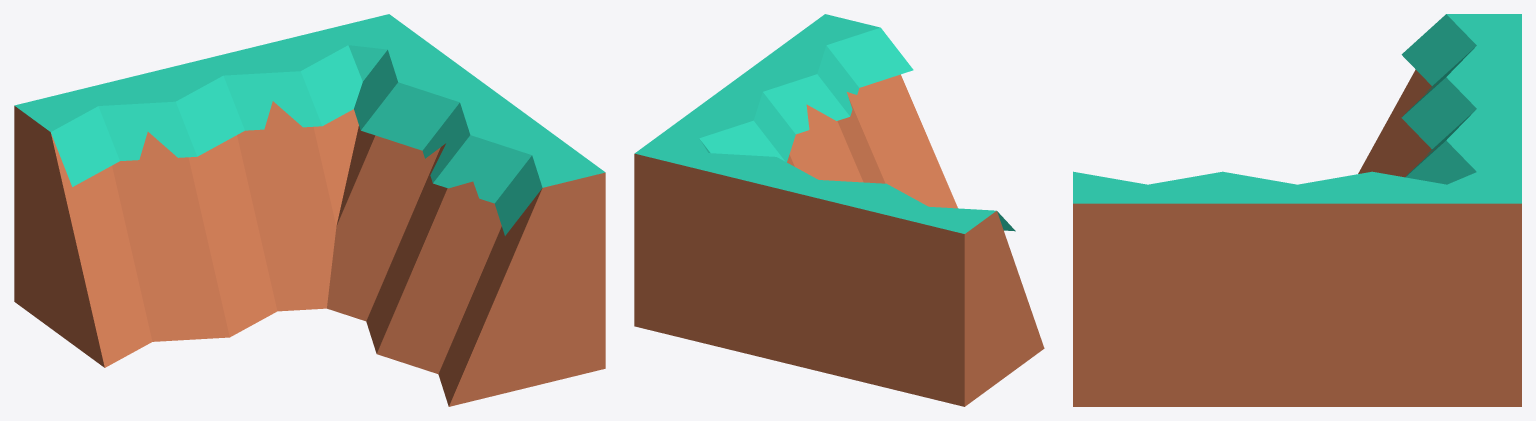
Rendered from cliff_halfCornerInner_rock.fbx.
The picture shows the model from 3 angles, left to right: view 1: azimuth 30°, elevation 25°; view 2: azimuth 150°, elevation 25°; view 3: azimuth 270°, elevation 25°; orthographic projection. The views are drawn at different scales.
Parts seen in each view (by area): view 1: cliff_halfCornerInner_rock; view 2: cliff_halfCornerInner_rock; view 3: cliff_halfCornerInner_rock.
Boxes of the visible parts, x1,y1,x2,y2 form: cliff_halfCornerInner_rock: [14, 14, 605, 406]; cliff_halfCornerInner_rock: [634, 14, 1044, 406]; cliff_halfCornerInner_rock: [1073, 14, 1521, 406].
Bounding box in the file's own units: 10 × 5 × 10.
